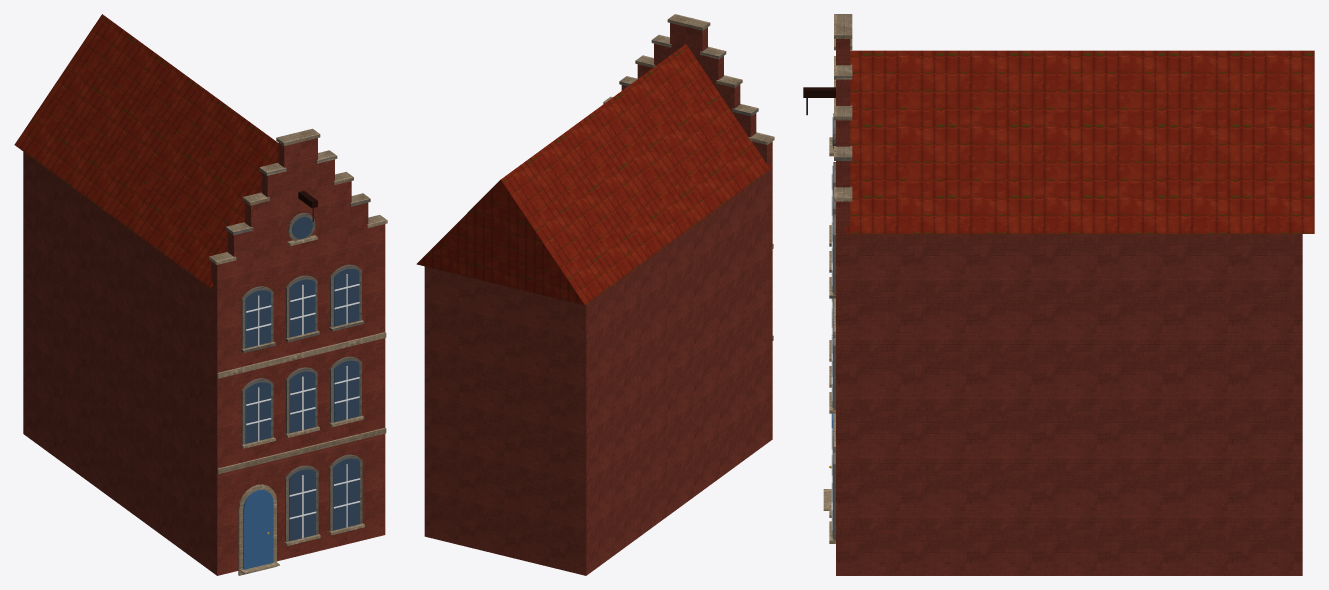
Rendered from holandesa_w6_1.gltf.
3 renders of one model, left to right at view 1: azimuth 30°, elevation 25°; view 2: azimuth 150°, elevation 25°; view 3: azimuth 270°, elevation 25°, orthographic. The views are drawn at different scales.
Parts seen in each view (by area): view 1: holandesa_w6_1; view 2: holandesa_w6_1; view 3: holandesa_w6_1.
Boxes of the visible parts, x1,y1,x2,y2 form: holandesa_w6_1: (14, 14, 387, 575); holandesa_w6_1: (416, 14, 774, 575); holandesa_w6_1: (803, 14, 1314, 575).
Size of what is drawn, in the model's own units: 5.96 by 13.67 by 12.5.
Materials: 7 (4 with a texture image).
